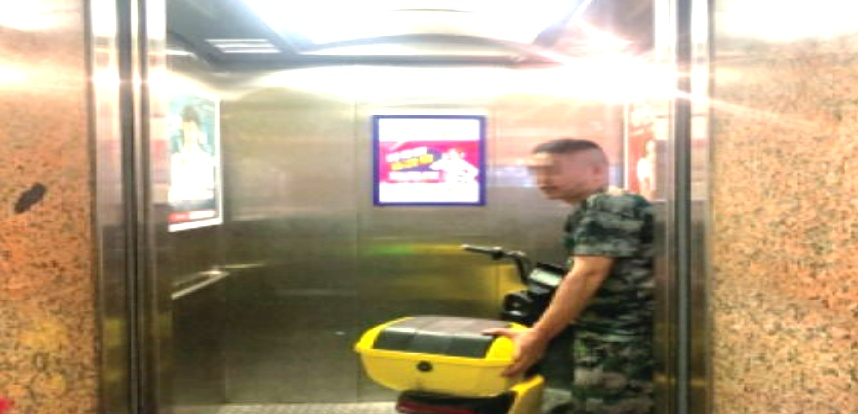ebike: (356, 243, 570, 413)
person: (516, 140, 663, 414)
